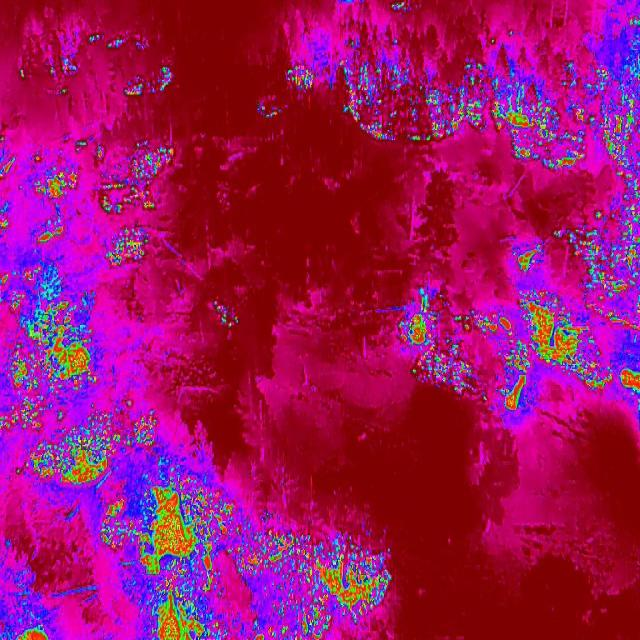fire: (8, 272, 169, 500), (3, 138, 192, 272), (226, 510, 393, 632), (334, 27, 490, 147), (7, 28, 182, 112), (15, 397, 161, 491), (492, 53, 598, 172), (516, 291, 616, 404), (562, 195, 640, 335), (142, 483, 236, 585), (597, 77, 640, 194), (409, 338, 476, 398), (143, 591, 220, 640), (98, 494, 144, 554), (496, 340, 533, 412), (447, 309, 518, 343), (514, 234, 549, 278), (400, 307, 434, 351), (0, 622, 56, 640), (286, 64, 316, 95), (616, 365, 640, 401), (210, 300, 236, 326), (258, 98, 286, 120)
